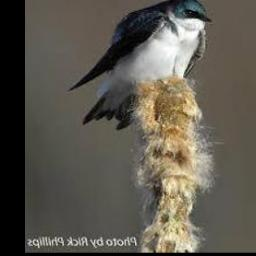Swallow: (68, 0, 215, 129)
